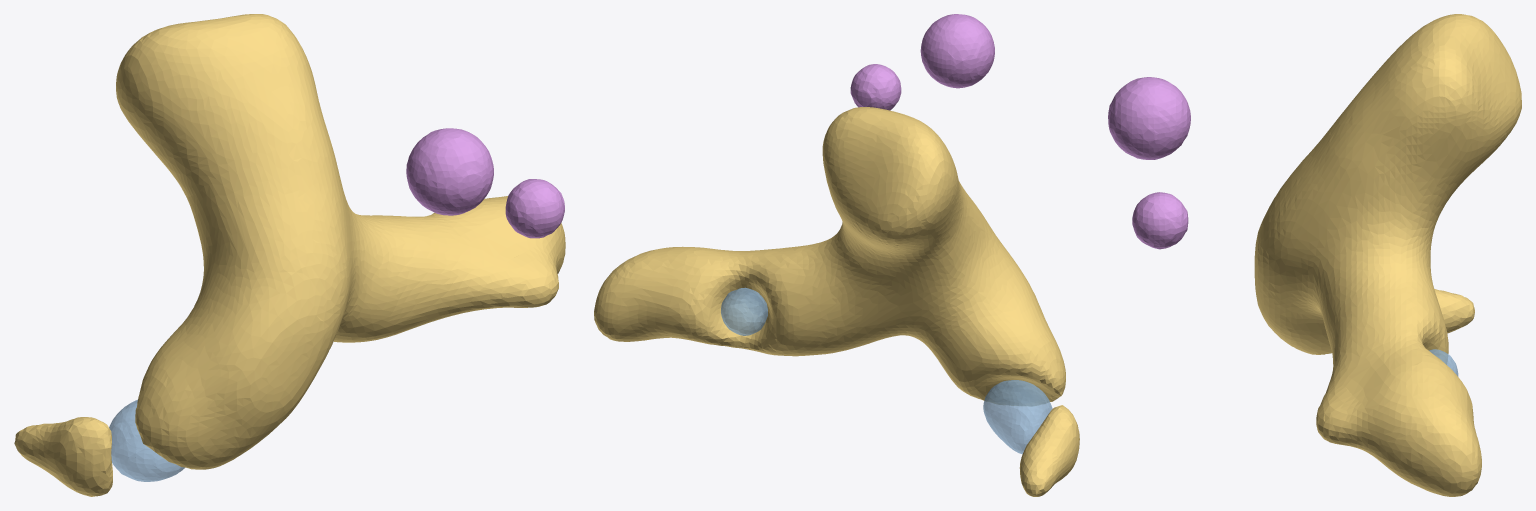
Rendered from prompt.glb.
3 views of the same model, side by side, from view 1: azimuth 30°, elevation 25°; view 2: azimuth 150°, elevation 25°; view 3: azimuth 270°, elevation 25° (orthographic). The views are drawn at different scales.
Visible parts, largest first — view 1: world; view 2: world; view 3: world.
Part boxes in pixels (x1=…): world: x1=14, y1=14, x2=565, y2=496; world: x1=594, y1=14, x2=1079, y2=496; world: x1=1108, y1=14, x2=1521, y2=496.
Bounding box in the file's own units: 0.8312 × 0.6136 × 0.5895.
